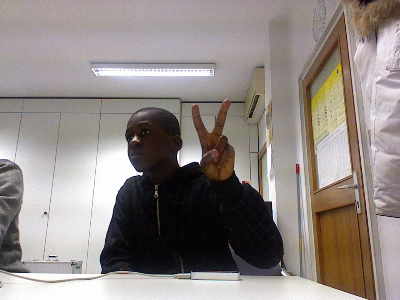剪刀: (189, 98, 235, 182)
